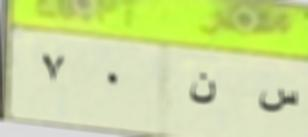0: (103, 63, 125, 95)
7: (35, 47, 69, 87)
noon: (187, 69, 218, 112)
seen: (257, 79, 300, 119)
